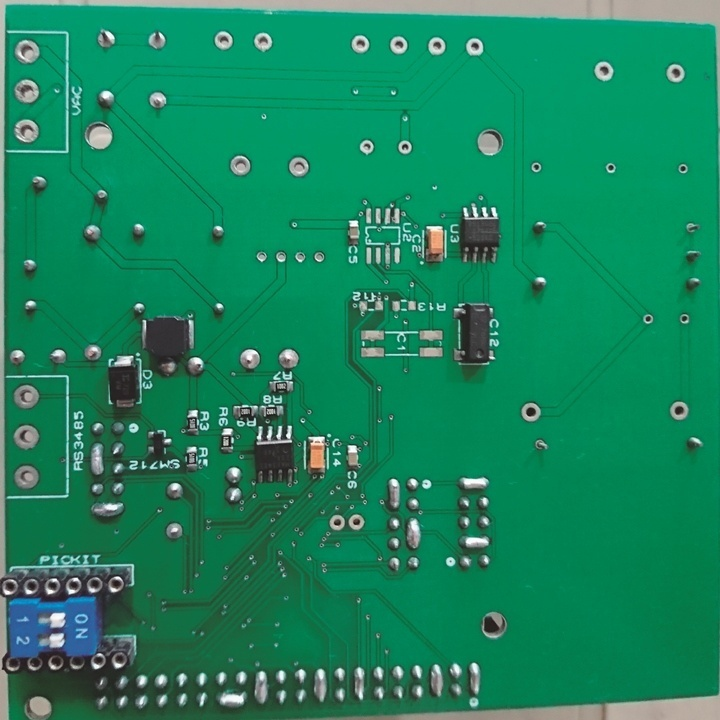F: (10, 422, 44, 455), (11, 462, 42, 494), (9, 382, 44, 410), (12, 38, 43, 67), (12, 77, 42, 106), (14, 116, 42, 146), (236, 346, 264, 374), (275, 346, 304, 372), (228, 153, 256, 177), (665, 398, 691, 423), (519, 399, 542, 427), (591, 59, 615, 84), (664, 60, 687, 86), (286, 156, 313, 178), (462, 35, 487, 58), (350, 33, 373, 58), (81, 340, 106, 363), (162, 520, 187, 543), (213, 28, 236, 52), (95, 27, 118, 51), (147, 89, 169, 114), (252, 30, 274, 54), (145, 29, 167, 51), (346, 512, 367, 535), (47, 346, 71, 366), (426, 35, 447, 57), (8, 346, 27, 368), (327, 512, 346, 534), (389, 34, 408, 55), (396, 138, 414, 157), (357, 138, 376, 156), (683, 220, 702, 237), (254, 247, 270, 266), (310, 246, 325, 266), (533, 435, 550, 452), (603, 159, 619, 177), (293, 247, 307, 267), (273, 249, 288, 266), (676, 160, 690, 178), (676, 311, 692, 326), (641, 312, 656, 327), (529, 161, 542, 175)
P: (88, 500, 127, 520), (404, 515, 425, 552), (428, 660, 446, 702), (350, 662, 367, 706), (456, 532, 495, 551), (253, 668, 271, 709), (86, 442, 107, 477), (312, 666, 329, 705), (216, 689, 249, 709), (467, 660, 484, 698), (384, 476, 402, 511), (457, 474, 492, 492)
